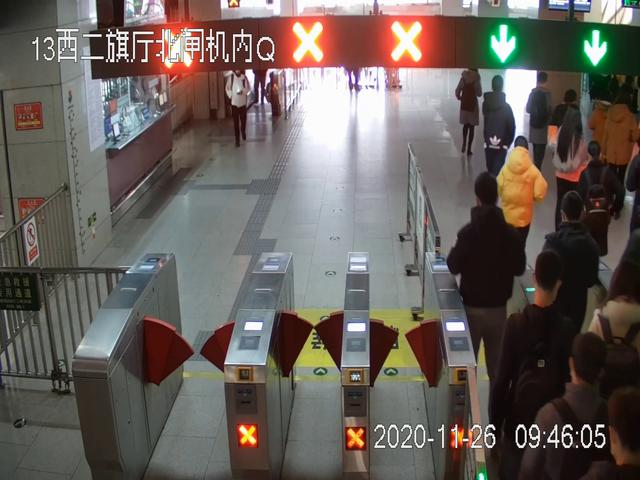person: (446, 174, 525, 420), (490, 254, 573, 480), (490, 135, 547, 320), (548, 107, 594, 233), (576, 140, 618, 262), (599, 100, 640, 219), (483, 75, 516, 195), (526, 73, 554, 179), (456, 68, 485, 156), (226, 69, 253, 146)
